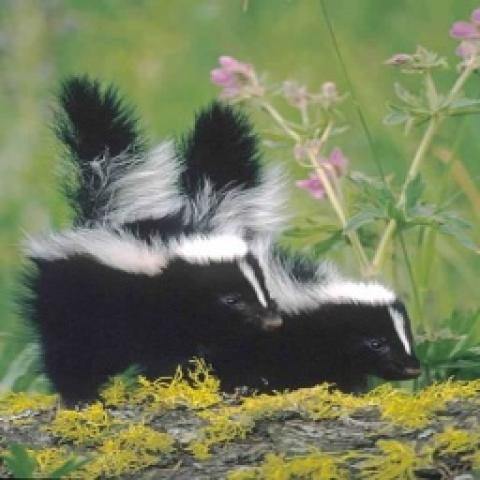small_animal: (173, 100, 425, 402), (0, 192, 284, 410)
